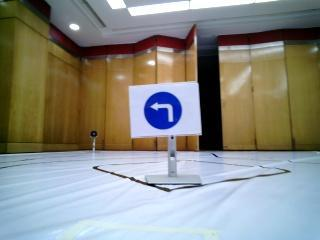left: (132, 89, 201, 132)
